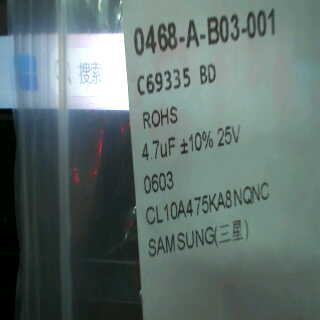4.7uF: (141, 134, 177, 168)
